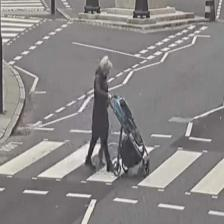person: (84, 55, 114, 171)
